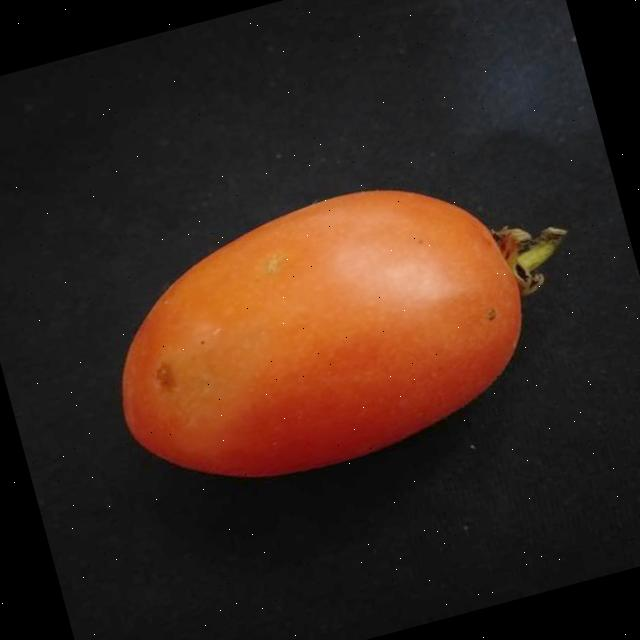tomato: (66, 135, 593, 532)
